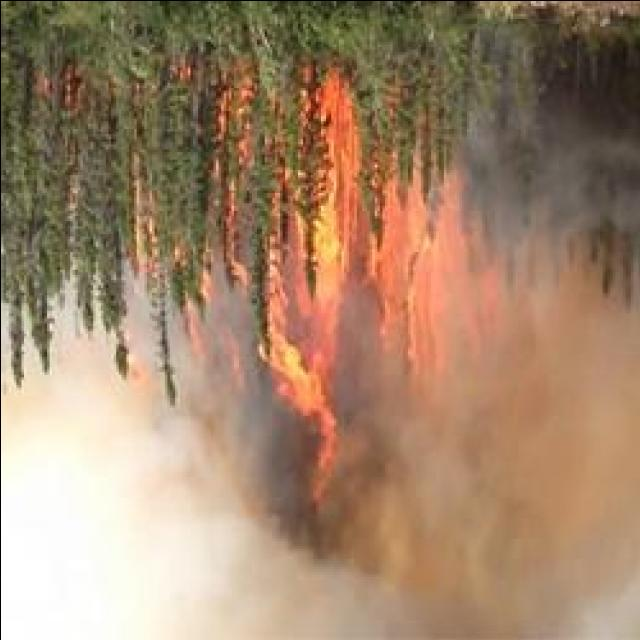fire: (280, 352, 318, 412), (317, 220, 343, 268)
smoke: (0, 380, 228, 640), (448, 392, 560, 587), (346, 438, 456, 612), (404, 176, 488, 374), (240, 439, 314, 548), (542, 143, 626, 225), (198, 356, 262, 439), (343, 307, 381, 407)
